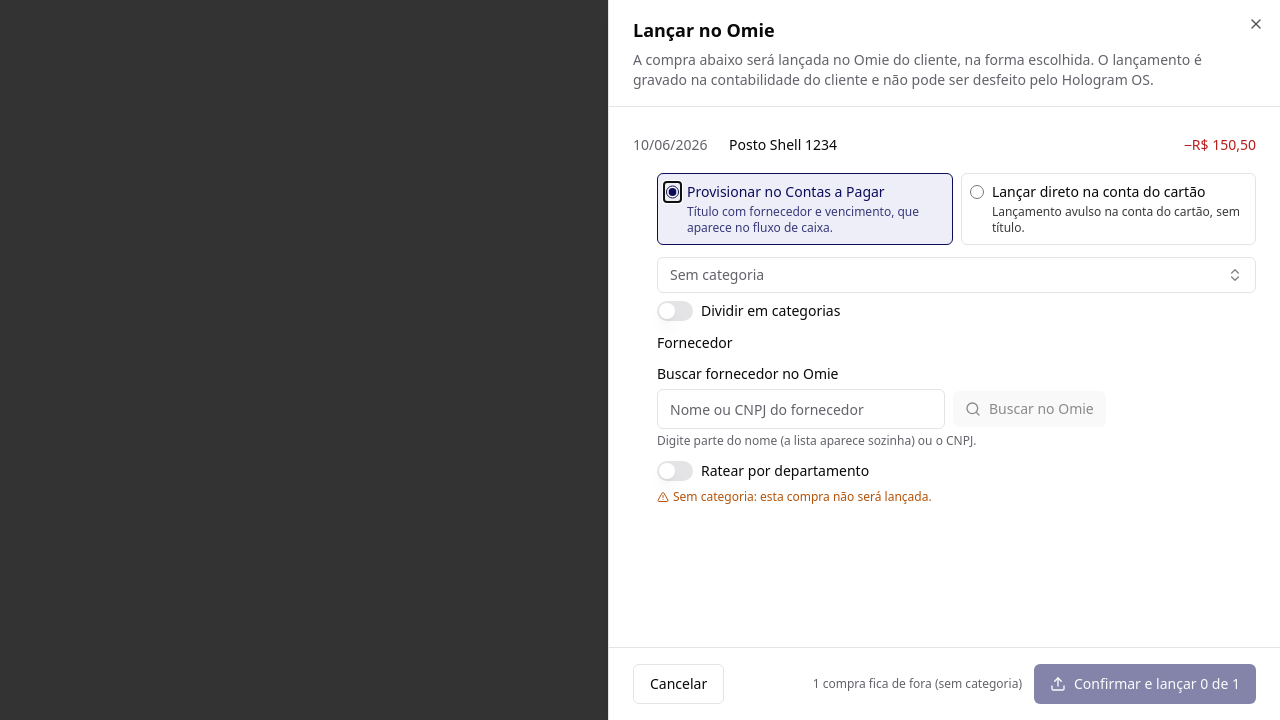
Test: Forma do lançamento › o padrão é provisionar, e sem fornecedor a compra fica de fora
Expected: the radio button labelled "Provisionar no Contas a Pagar" is checked, [666,184,679,200]
Click the button with aria-label "Categoria da compra de 10/06/2026": (717, 274) [657,257,1256,293]
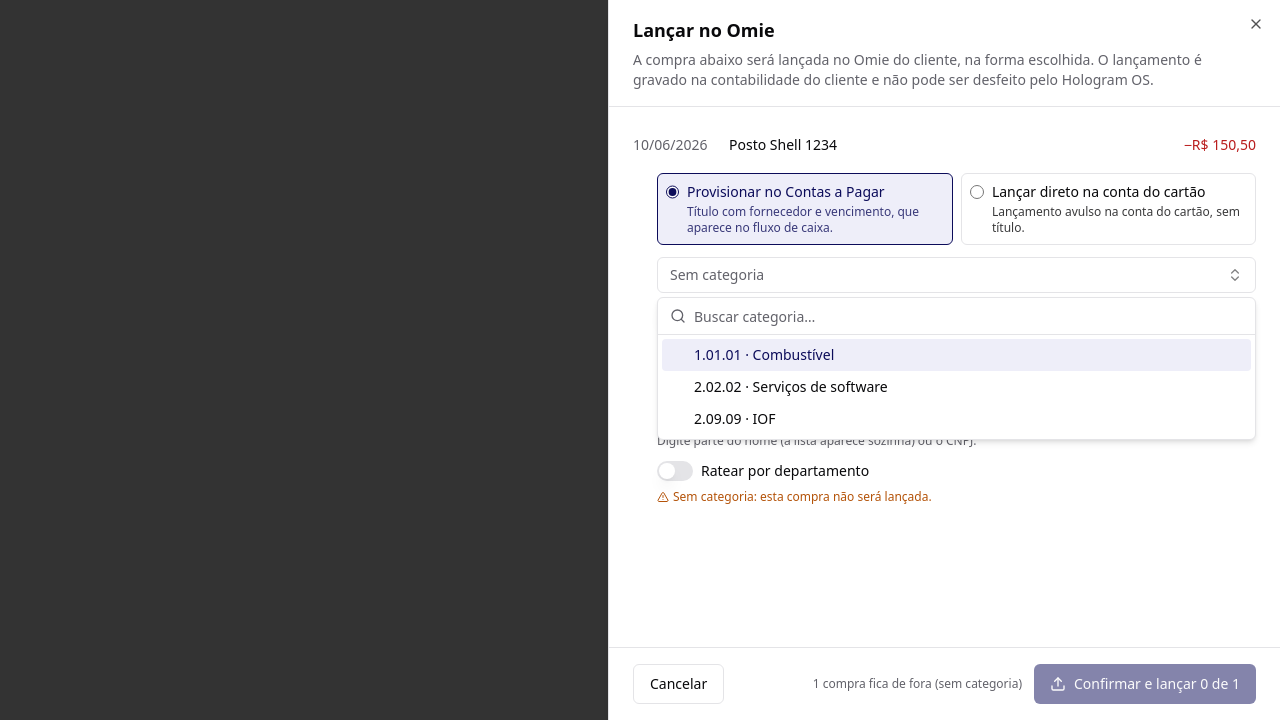
Click the option "1.01.01 · Combustível": (764, 354) [662,339,1251,371]
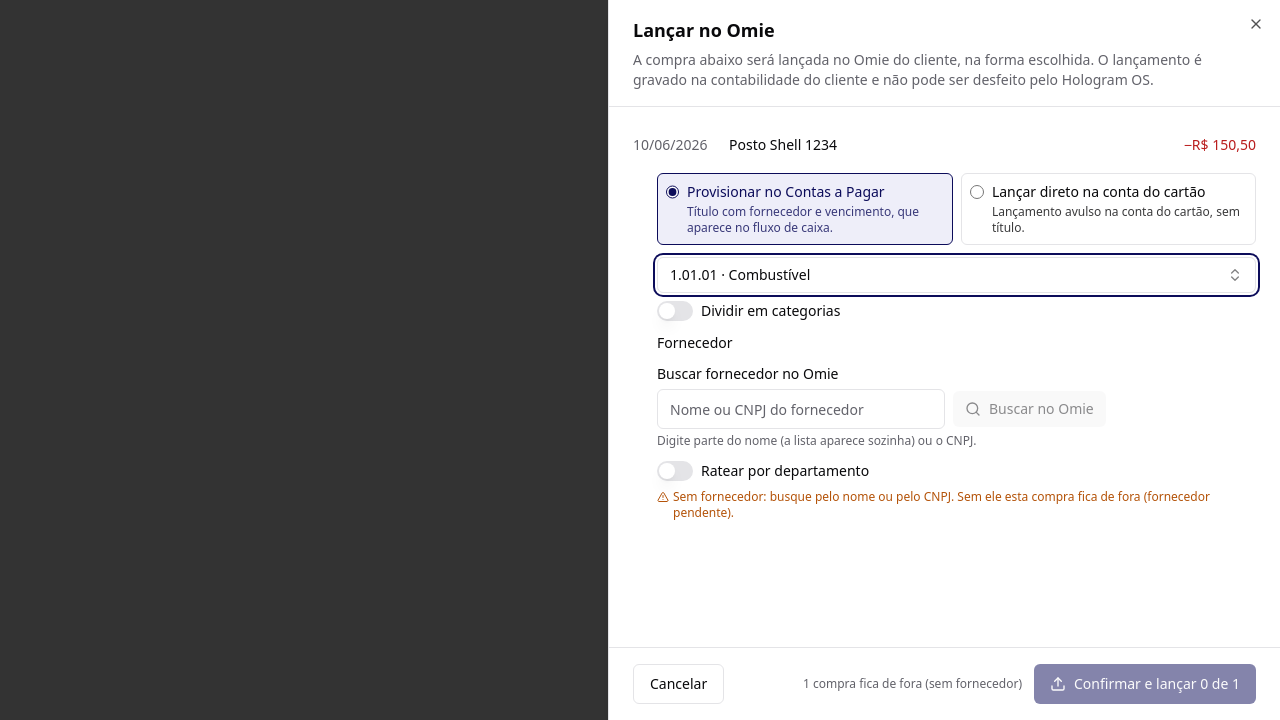
Expected: the button "Confirmar e lançar 0 de 1" is disabled, [1034,664,1256,704]
Expected: the text "Sem fornecedor: busque pelo nome ou pelo CNPJ" is shown, [673,488,1210,521]
Expected: the text "1 compra fica de fora (sem fornecedor)" is shown, [803,676,1022,692]
